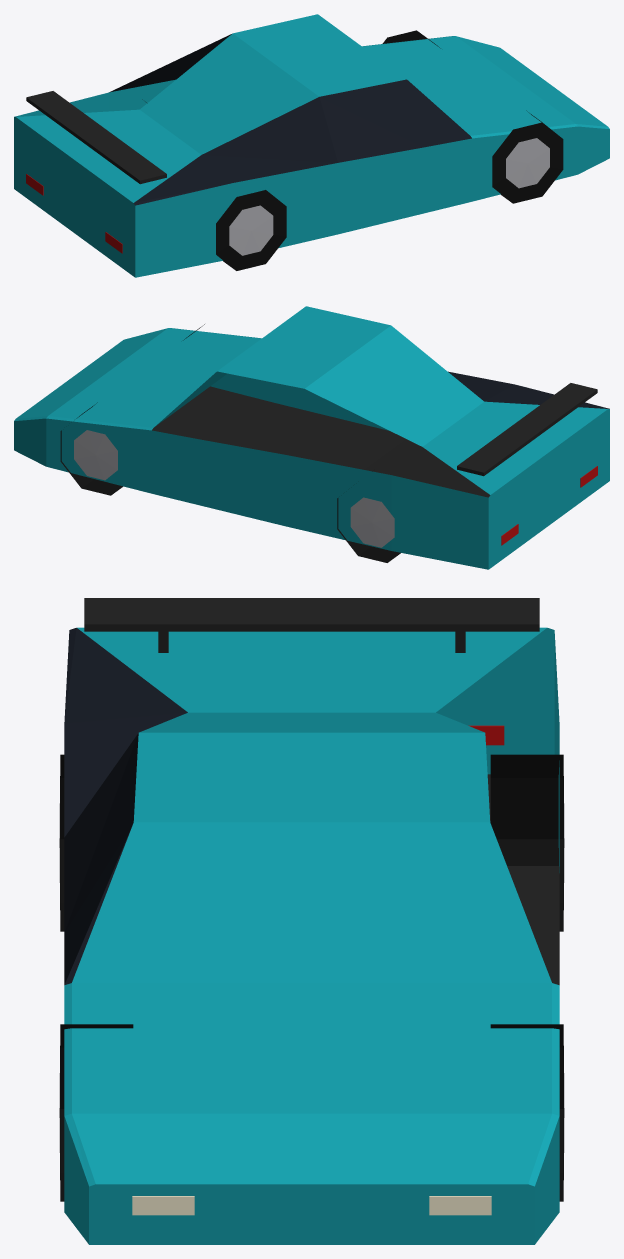
3 renders of one model, top to bottom at view 1: azimuth 30°, elevation 25°; view 2: azimuth 150°, elevation 25°; view 3: azimuth 270°, elevation 25°, orthographic. The views are drawn at different scales.
Visible parts, largest first — view 1: car; view 2: car; view 3: car.
Part boxes in pixels (x1,y1,x2,y2): car: (14, 14, 609, 277); car: (14, 306, 609, 569); car: (59, 598, 564, 1244).
Size of the model in its own units: 4.26 by 1.14 by 1.94.
